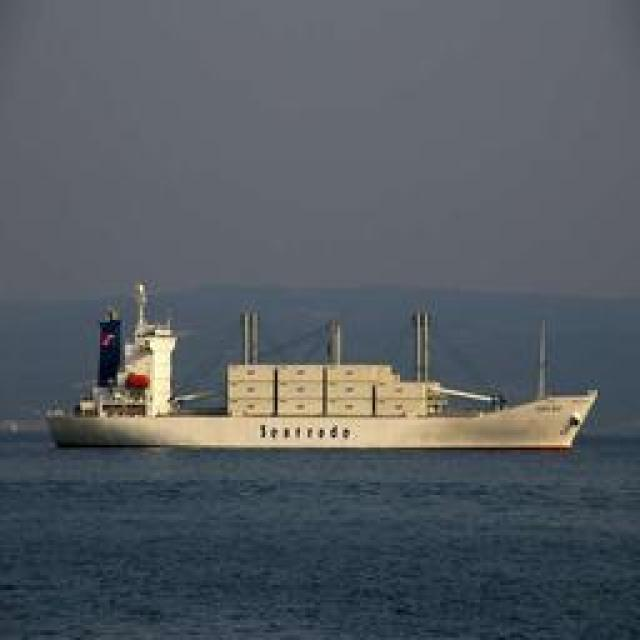ship2: (46, 282, 600, 450)
